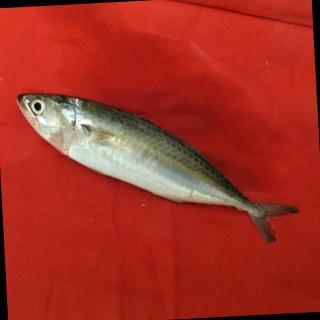Ikan: (11, 63, 315, 271)
